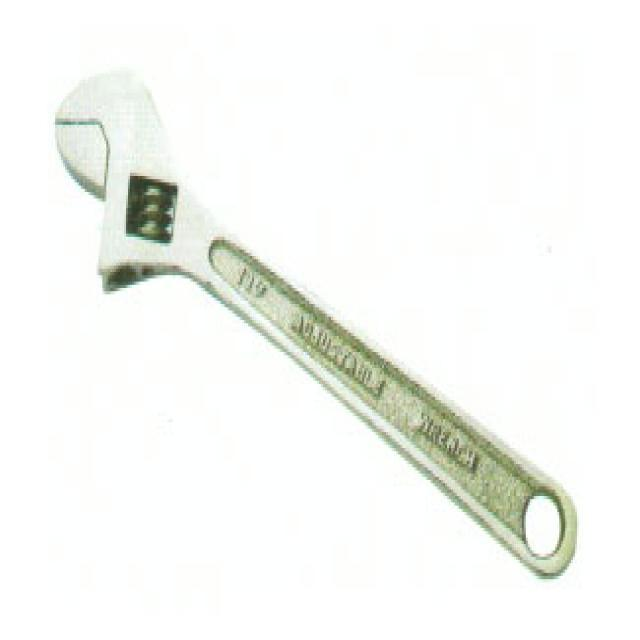wrench: (50, 64, 582, 584)
